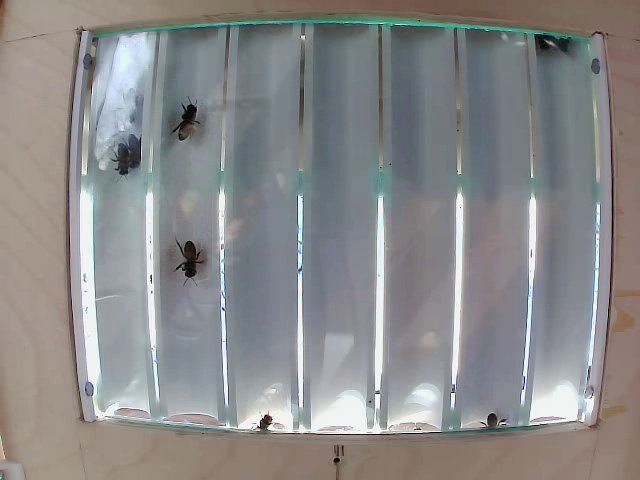bee: (170, 240, 216, 288), (102, 148, 148, 181), (169, 101, 198, 143)
